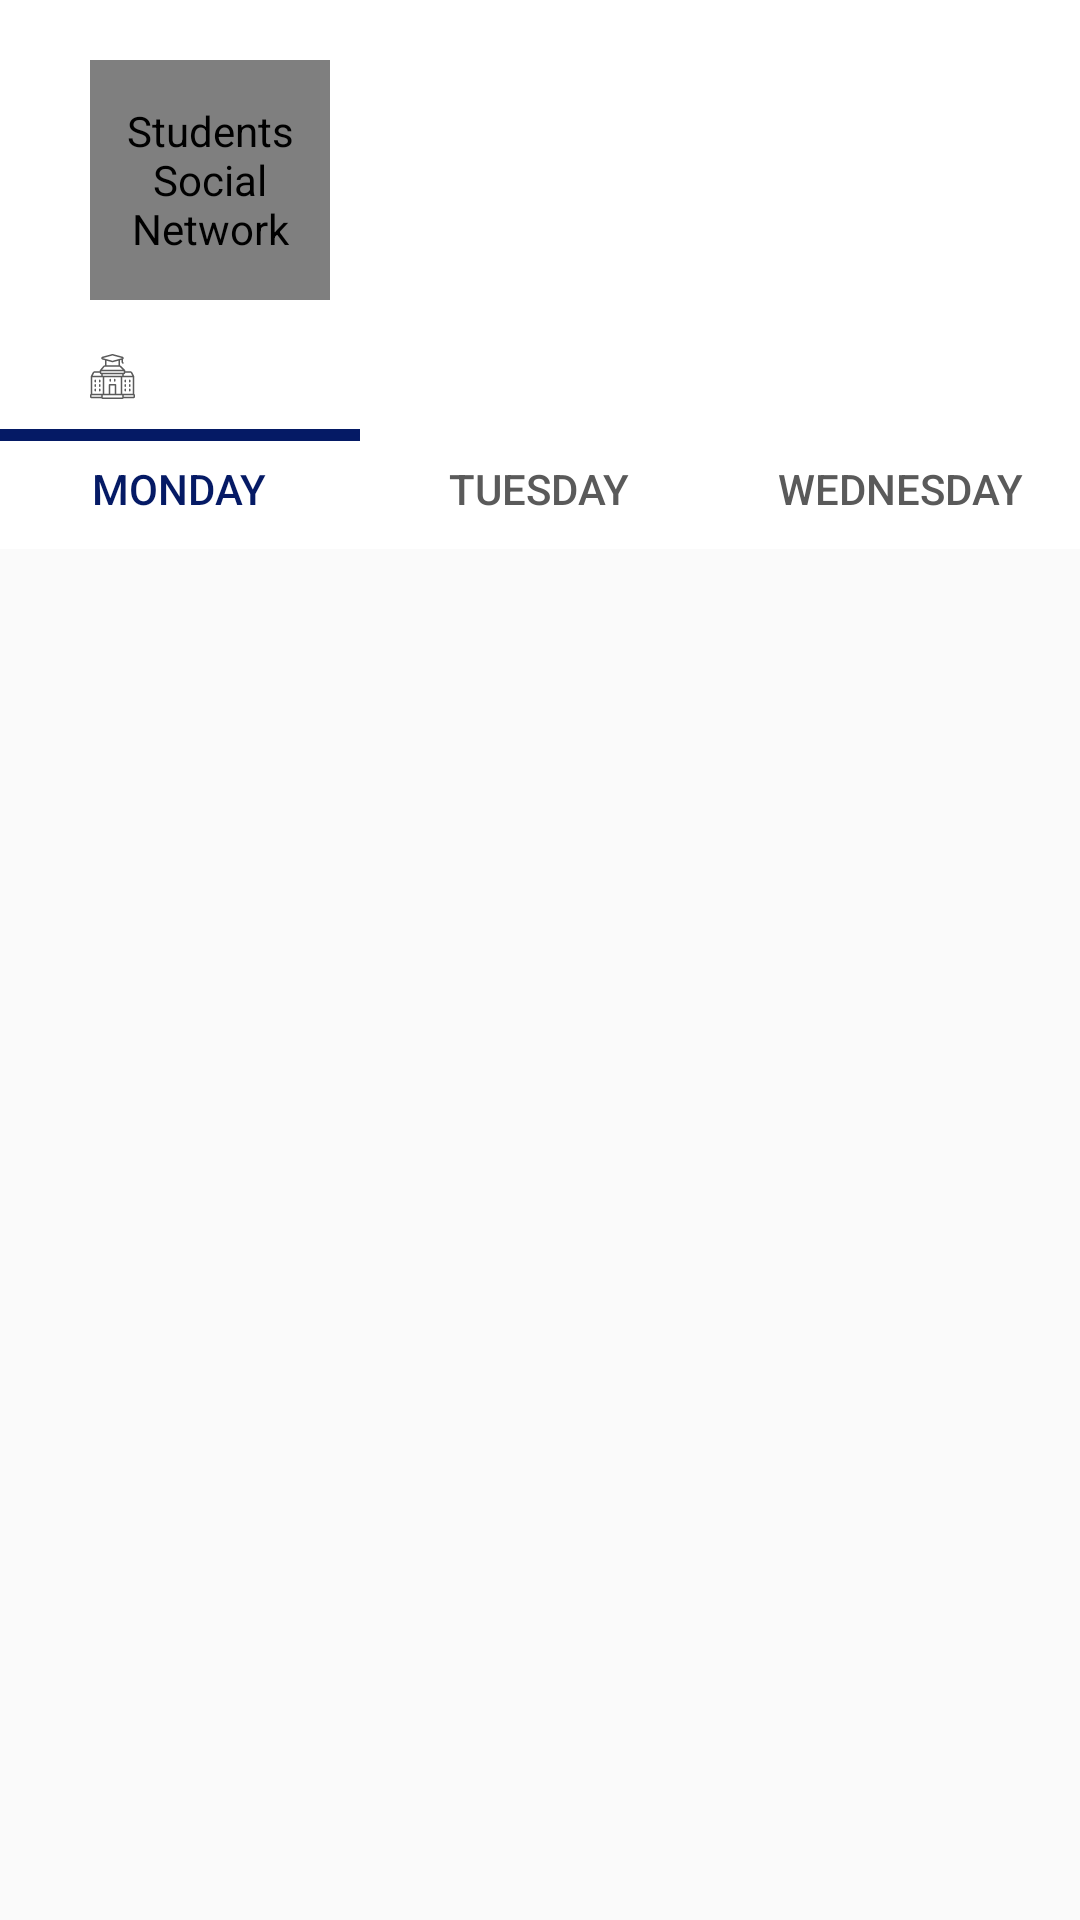

Named icons in this screenshot (1080×1920) and their bounding boxes, (x1, y1, x2, y2):
school: (90, 354, 135, 399)
